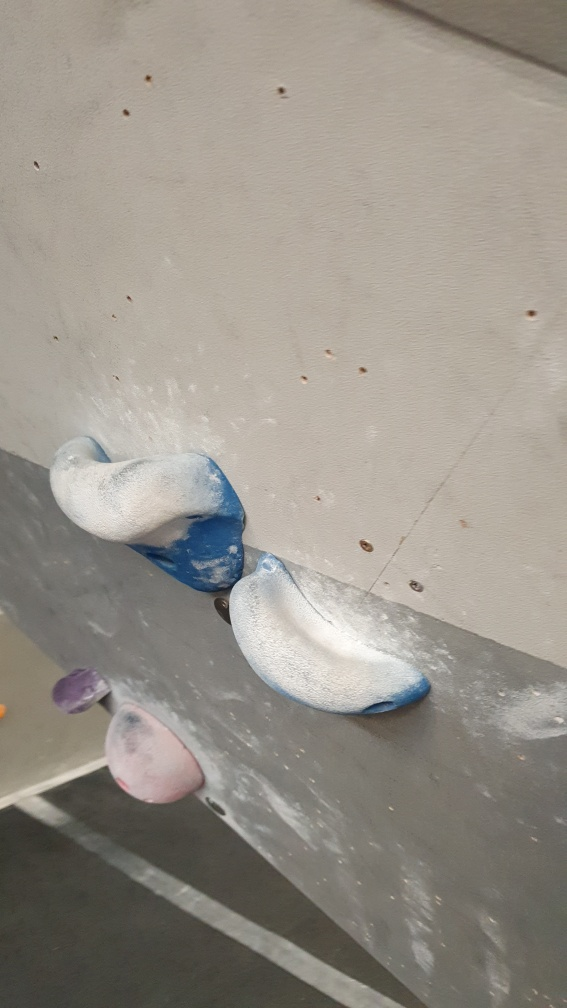Jug: (50, 434, 253, 604), (230, 555, 433, 717)
Sloper: (103, 701, 210, 809)
